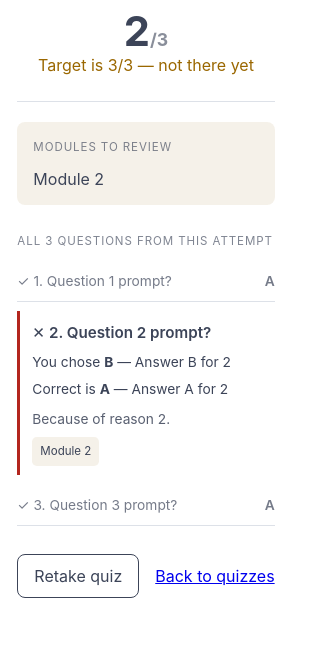
Scenario: ResultsPage › collapses correct questions, revealing the explanation on click
Expected: the text "Target is 3/3 — not there yet" is shown, [38,55,254,75]
Expected: the text "Because of reason 1." is not shown
Click the button "✓ 1. Question 1 prompt? A" at [146, 281], box [17,261,275,301]
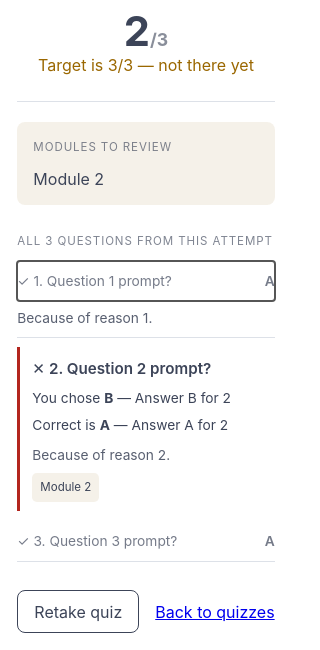
Now the text "Because of reason 1." is shown, box [17,310,152,326]
